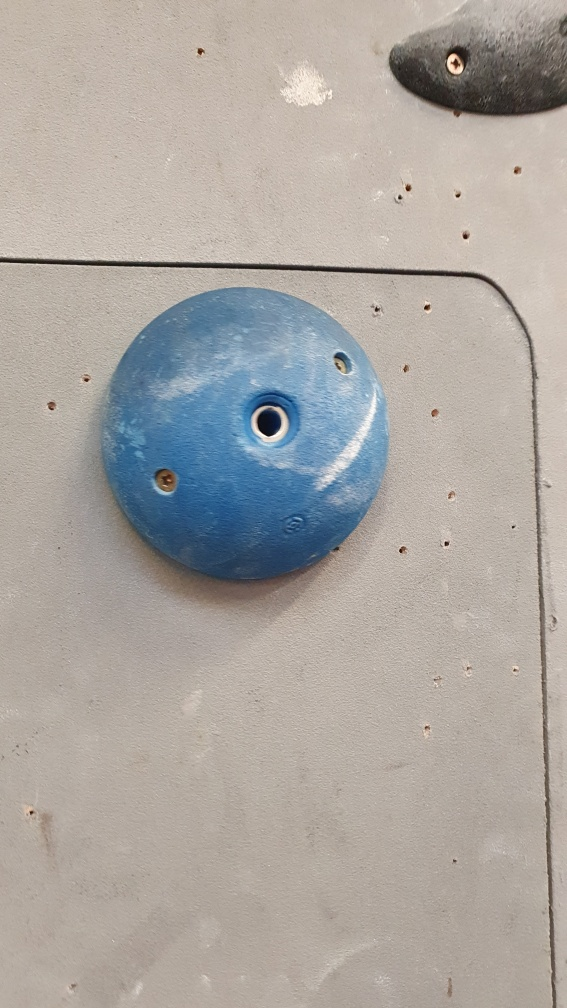Sloper: (97, 285, 393, 588)
